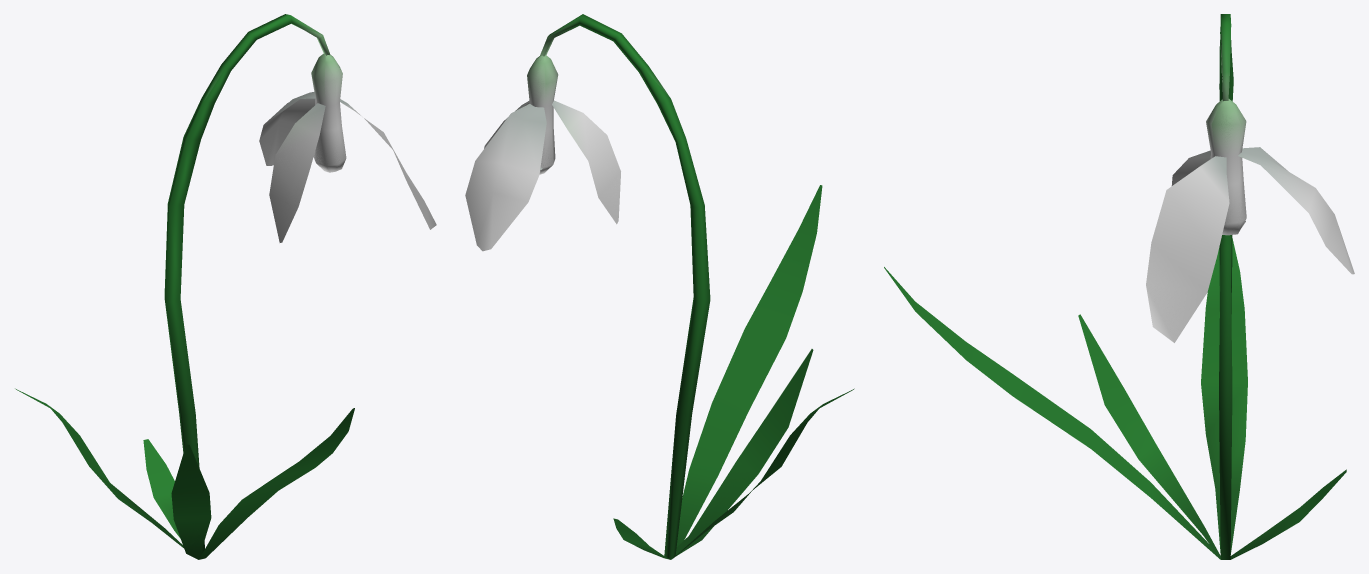
Rendered from snowflower.fbx.
3 renders of one model, left to right at view 1: azimuth 30°, elevation 25°; view 2: azimuth 150°, elevation 25°; view 3: azimuth 270°, elevation 25°, orthographic. The views are drawn at different scales.
Visible parts, largest first — view 1: pCube5; view 2: pCube5; view 3: pCube5.
Part boxes in pixels (x1,y1,x2,y2): pCube5: (15, 14, 436, 559); pCube5: (465, 14, 854, 559); pCube5: (884, 14, 1354, 559).
Size of the model in its own units: 110 by 139 by 102.
